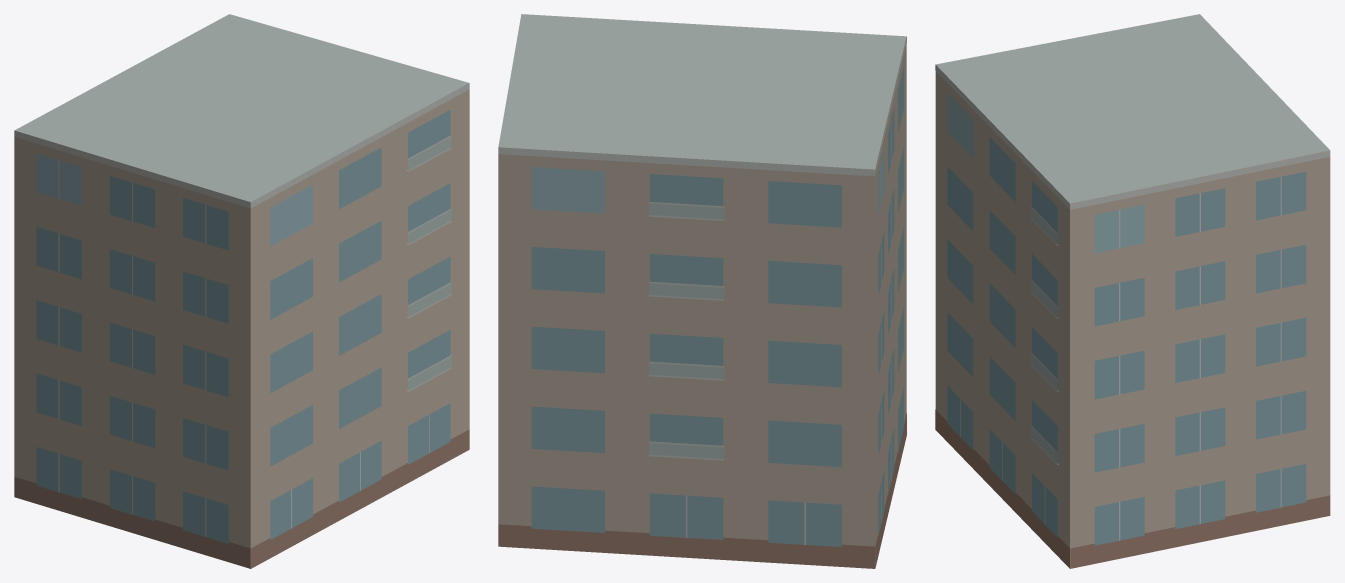
The model's file is survey-upis-32684180.glb.
3 renders of one model, left to right at view 1: azimuth 30°, elevation 25°; view 2: azimuth 150°, elevation 25°; view 3: azimuth 270°, elevation 25°, orthographic. The views are drawn at different scales.
Visible parts, largest first — view 1: survey-upis-32684180.tmp; view 2: survey-upis-32684180.tmp; view 3: survey-upis-32684180.tmp.
Part boxes in pixels (x1,y1,x2,y2): survey-upis-32684180.tmp: [14, 14, 469, 568]; survey-upis-32684180.tmp: [498, 14, 906, 568]; survey-upis-32684180.tmp: [935, 14, 1330, 568].
Bounding box in the file's own units: 15.76 × 14.15 × 13.87.
